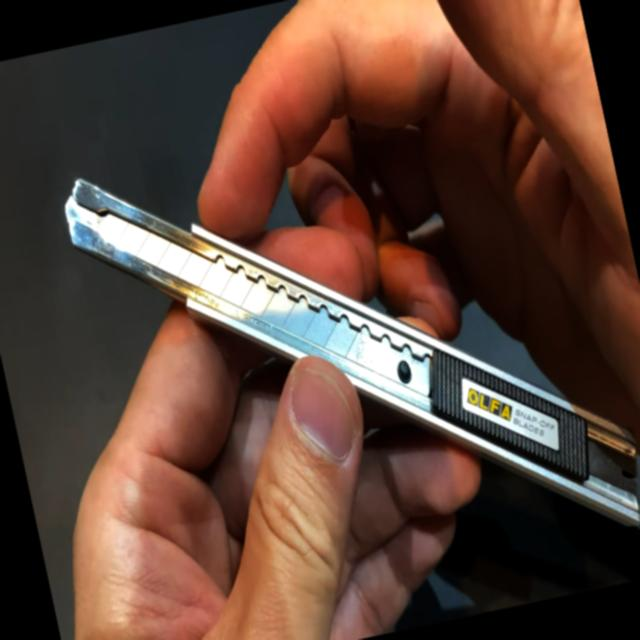cutter: (38, 22, 640, 640)
